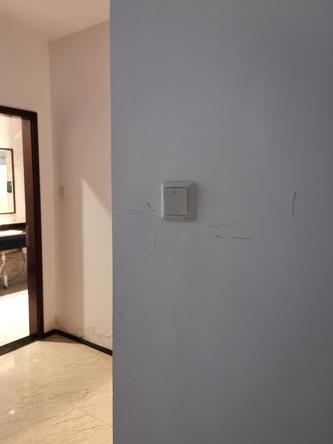switch: (162, 182, 194, 219)
